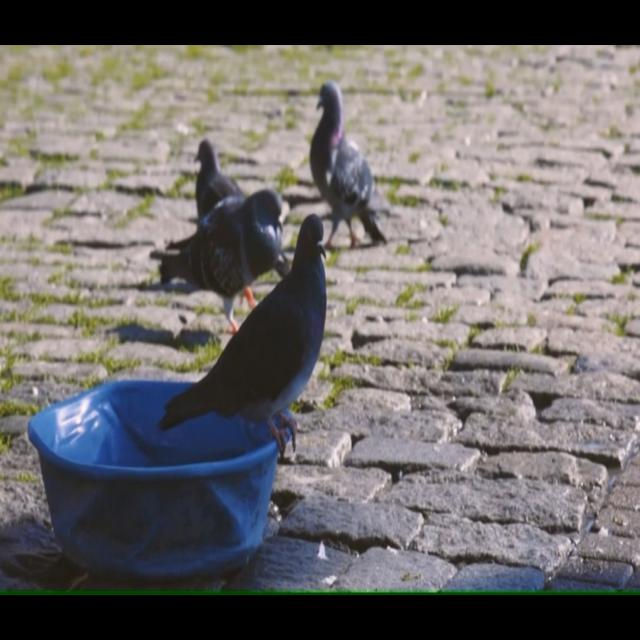bird: (160, 212, 332, 474), (138, 174, 299, 328), (308, 90, 396, 246), (190, 132, 258, 230)
